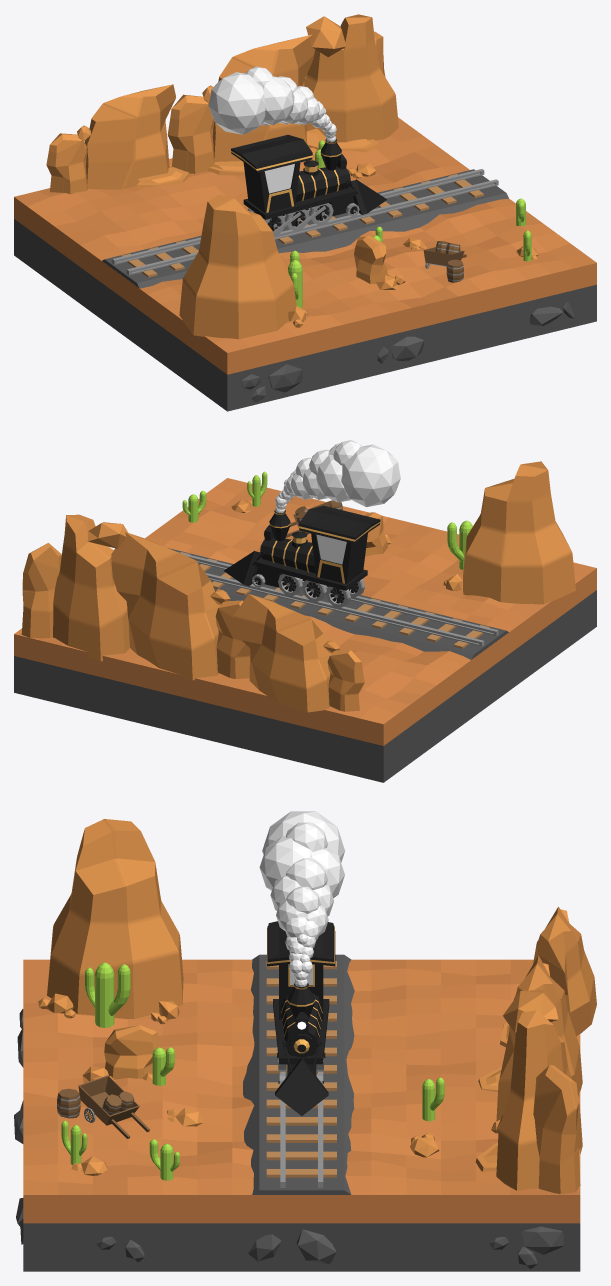
Rendered from train_diorama.glb.
The picture shows the model from 3 angles, top to bottom: view 1: azimuth 30°, elevation 25°; view 2: azimuth 150°, elevation 25°; view 3: azimuth 270°, elevation 25°; orthographic projection. The views are drawn at different scales.
Visible parts, largest first — view 1: Floor, Cube.011, Cube.012, Cube.015, Cube, Cube.013, Cube.004, Cube.002, Cube.014, Icosphere.018, Cube.016, Cube.001 (+11 smaller); view 2: Floor, Cube.011, Cube.013, Cube.015, Cube.012, Cube, Cube.004, Cube.002, Cube.024, Icosphere.018, Cube.014, Cube.016 (+12 smaller); view 3: Floor, Cube.011, Cube, Cube.012, Cube.024, Cube.001, Cube.015, Cube.013, Cube.004, Cube.017, Cylinder.009, Cube.008 (+20 smaller).
Boxes of the visible parts, left/top/right/bottom form: Floor: left=14, top=117, right=596, bottom=411; Cube.011: left=179, top=195, right=296, bottom=339; Cube.012: left=304, top=14, right=398, bottom=142; Cube.015: left=84, top=84, right=175, bottom=189; Cube: left=102, top=169, right=508, bottom=288; Cube.013: left=212, top=34, right=315, bottom=161; Cube.004: left=230, top=134, right=312, bottom=212; Cube.002: left=112, top=169, right=498, bottom=275; Cube.014: left=167, top=94, right=214, bottom=173; Icosphere.018: left=208, top=72, right=265, bottom=134; Cube.016: left=46, top=133, right=87, bottom=194; Cube.001: left=121, top=174, right=483, bottom=277; Floor: left=14, top=478, right=596, bottom=782; Cube.011: left=463, top=461, right=575, bottom=604; Cube.013: left=111, top=532, right=220, bottom=680; Cube.015: left=233, top=594, right=331, bottom=712; Cube.012: left=53, top=514, right=129, bottom=661; Cube: left=168, top=548, right=508, bottom=659; Cube.004: left=298, top=505, right=380, bottom=583; Cube.002: left=178, top=552, right=498, bottom=646; Cube.024: left=21, top=543, right=61, bottom=638; Icosphere.018: left=341, top=444, right=400, bottom=507; Cube.014: left=215, top=600, right=249, bottom=678; Cube.016: left=327, top=650, right=364, bottom=711; Floor: left=23, top=959, right=580, bottom=1271; Cube.011: left=47, top=819, right=183, bottom=1018; Cube: left=243, top=954, right=354, bottom=1194; Cube.012: left=496, top=1010, right=582, bottom=1190; Cube.024: left=533, top=1065, right=580, bottom=1193; Cube.001: left=266, top=961, right=336, bottom=1177; Cube.015: left=533, top=907, right=596, bottom=1036; Cube.013: left=496, top=955, right=582, bottom=1121; Cube.004: left=267, top=921, right=335, bottom=1019; Cube.017: left=104, top=1025, right=161, bottom=1079; Cylinder.009: left=85, top=962, right=130, bottom=1027; Cube.008: left=275, top=1057, right=328, bottom=1115.
Bounding box in the file's own units: 9.83 × 5.65 × 9.93.
